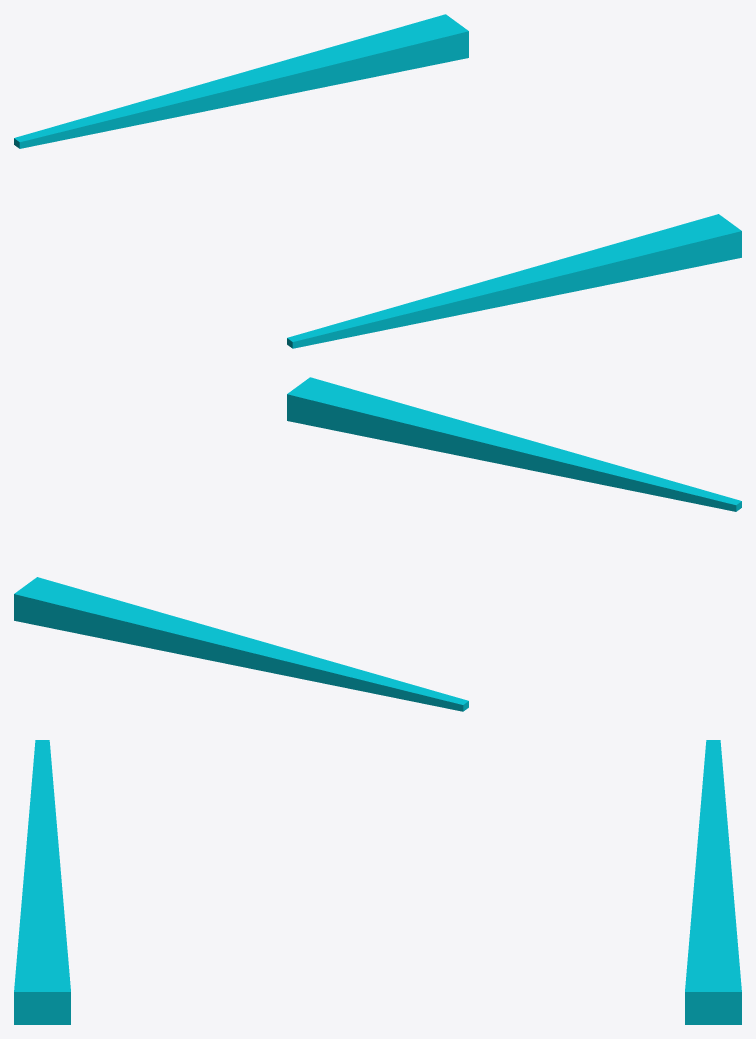
File: Enemy_Updated_03_Thrusters.fbx
3 views of the same model, one above another, from view 1: azimuth 30°, elevation 25°; view 2: azimuth 150°, elevation 25°; view 3: azimuth 270°, elevation 25° (orthographic). The views are drawn at different scales.
Parts seen in each view (by area): view 1: polySurface38; view 2: polySurface38; view 3: polySurface38.
Part boxes in pixels (x1=…): polySurface38: x1=14, y1=14, x2=741, y2=348; polySurface38: x1=14, y1=377, x2=741, y2=711; polySurface38: x1=14, y1=740, x2=741, y2=1024.
Bounding box in the file's own units: 14.46 × 0.8395 × 16.84.
